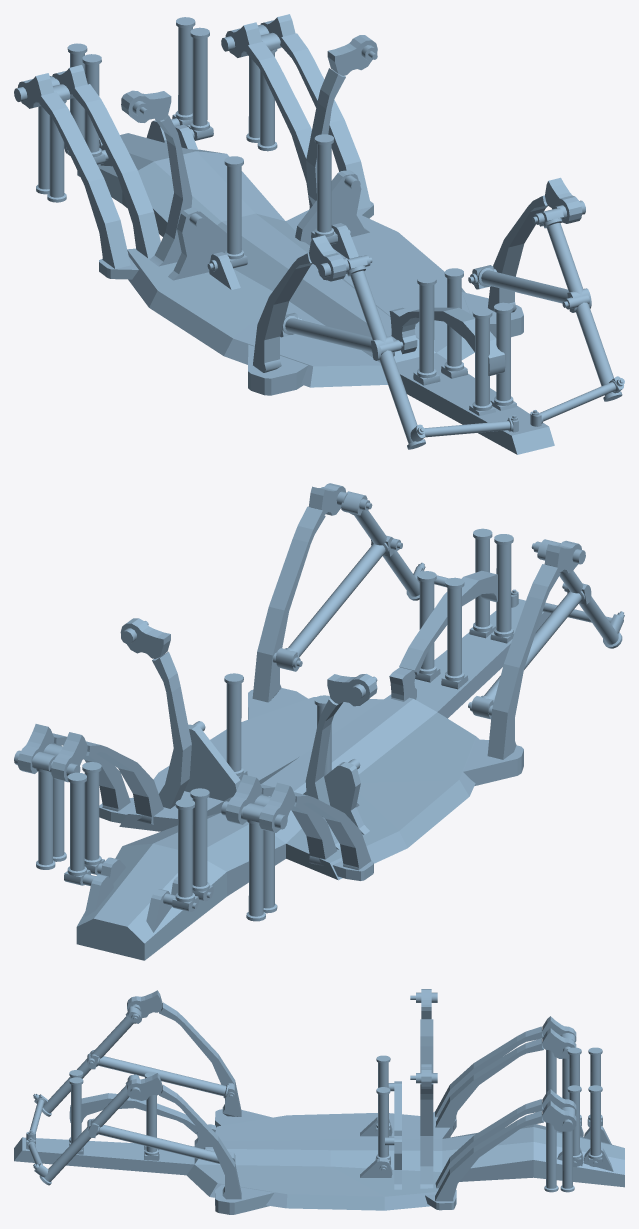
Rendered from gun holder.FBX.
3 renders of one model, top to bottom at view 1: azimuth 30°, elevation 25°; view 2: azimuth 150°, elevation 25°; view 3: azimuth 270°, elevation 25°, orthographic. The views are drawn at different scales.
Parts seen in each view (by area): view 1: gun holder; view 2: gun holder; view 3: gun holder.
Part boxes in pixels (x1,y1,x2,y2): gun holder: (14,14,624,454); gun holder: (14,483,624,960); gun holder: (14,989,624,1214).
Bounding box in the file's own units: 0.0724 × 0.1974 × 0.0518.
